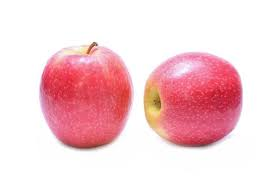apple: (38, 42, 135, 151), (142, 51, 244, 148)
